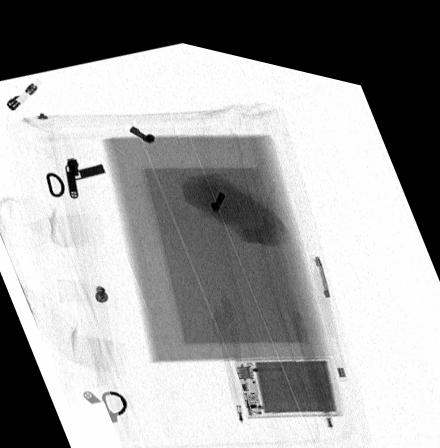Powerbank: (232, 341, 343, 407)
